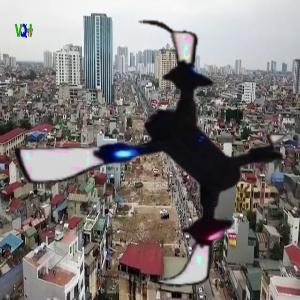drone: (16, 17, 299, 300)
